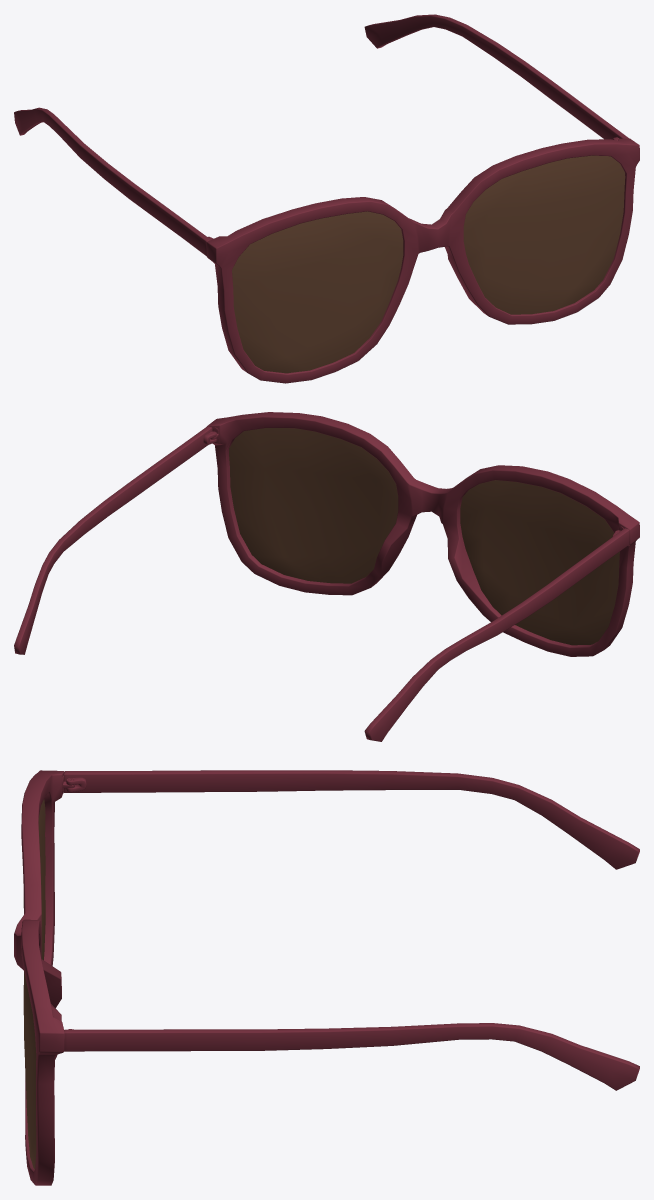
Rendered from sport-wrap-bordo.glb.
The picture shows the model from 3 angles, top to bottom: view 1: azimuth 30°, elevation 25°; view 2: azimuth 150°, elevation 25°; view 3: azimuth 270°, elevation 25°; orthographic projection. The views are drawn at different scales.
Visible parts, largest first — view 1: OPTIK_PRODUCT_259; view 2: OPTIK_PRODUCT_259; view 3: OPTIK_PRODUCT_259.
Boxes of the visible parts, <box> form: OPTIK_PRODUCT_259: <box>14,14,639,383</box>; OPTIK_PRODUCT_259: <box>14,412,639,741</box>; OPTIK_PRODUCT_259: <box>14,770,639,1185</box>.
Size of the model in its own units: 0.1527 by 0.0593 by 0.1539.
